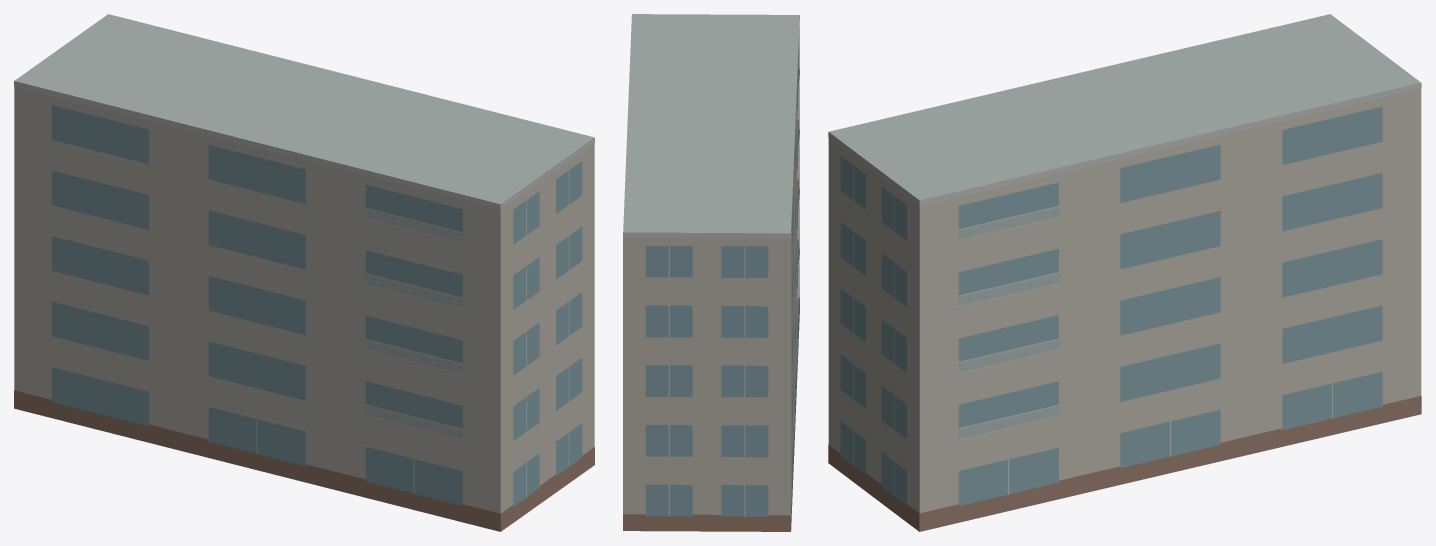
Rendered from survey-upis-32695322.glb.
3 views of the same model, side by side, from view 1: azimuth 30°, elevation 25°; view 2: azimuth 150°, elevation 25°; view 3: azimuth 270°, elevation 25° (orthographic). The views are drawn at different scales.
Parts seen in each view (by area): view 1: survey-upis-32695322.tmp; view 2: survey-upis-32695322.tmp; view 3: survey-upis-32695322.tmp.
Part boxes in pixels (<box>): survey-upis-32695322.tmp: <box>14,14,594,531</box>; survey-upis-32695322.tmp: <box>623,14,799,531</box>; survey-upis-32695322.tmp: <box>828,14,1421,531</box>.
Bounding box in the file's own units: 16.78 × 13.9 × 22.54.
